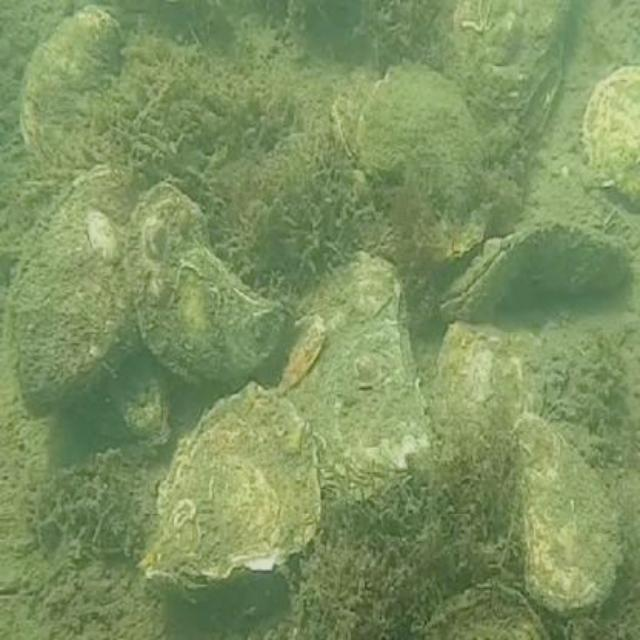Oyster-Closed: (137, 384, 320, 595), (125, 181, 296, 393), (9, 164, 151, 419), (289, 249, 430, 501), (358, 63, 489, 266), (510, 408, 623, 613), (26, 9, 120, 177), (435, 321, 545, 438), (453, 0, 574, 103), (586, 65, 638, 204), (425, 584, 543, 638), (338, 87, 369, 157)
Oyster-Open: (442, 216, 630, 316)
